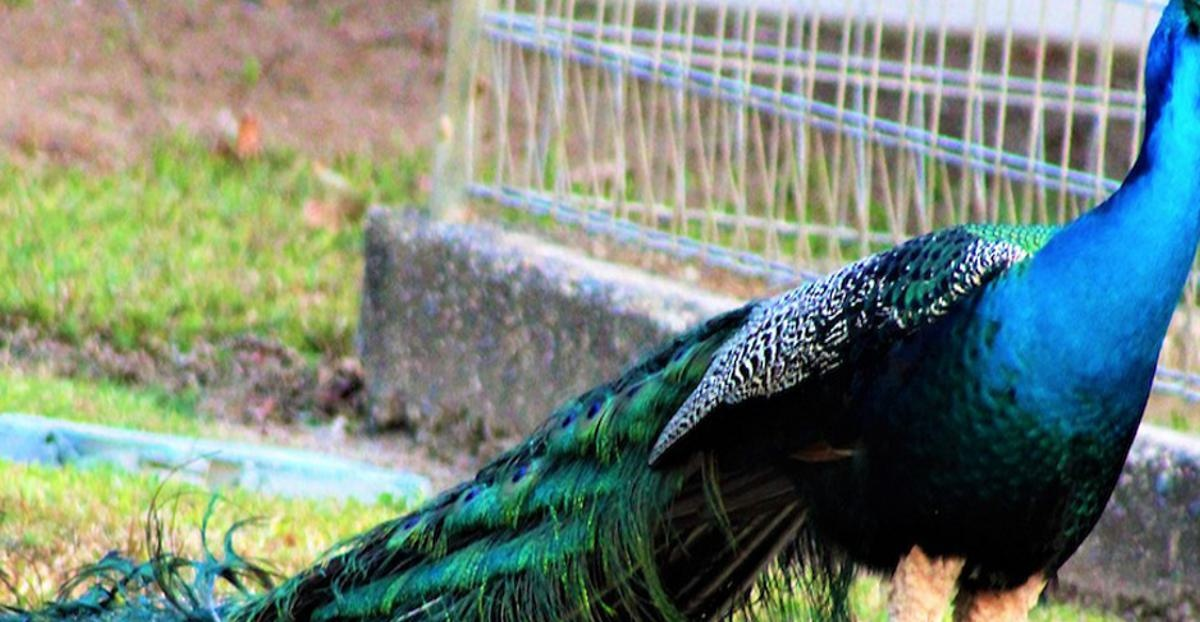peacock: (1, 36, 1199, 622)
